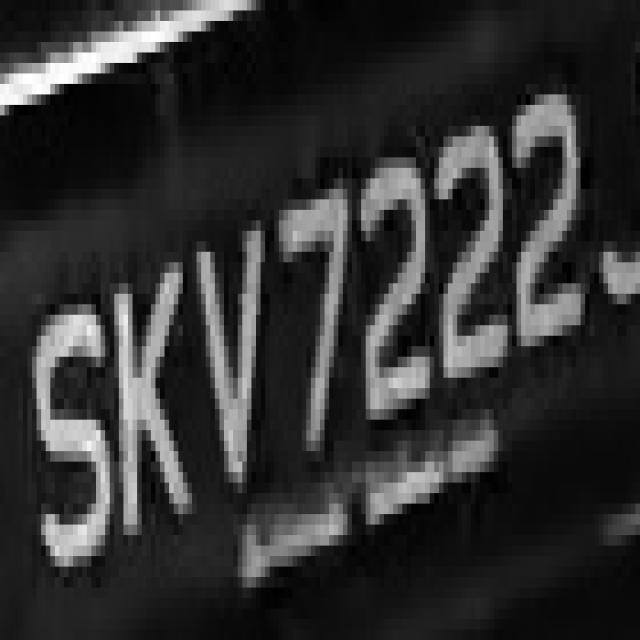2: (494, 63, 594, 388), (421, 94, 516, 420), (352, 157, 439, 430)
7: (265, 158, 357, 482)
K: (101, 241, 201, 546)
S: (28, 273, 114, 577)
V: (188, 168, 274, 503)
